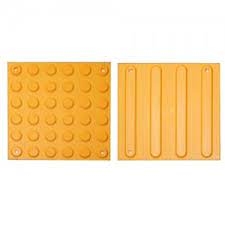guide_blocks: (8, 64, 108, 158), (120, 65, 218, 158)
